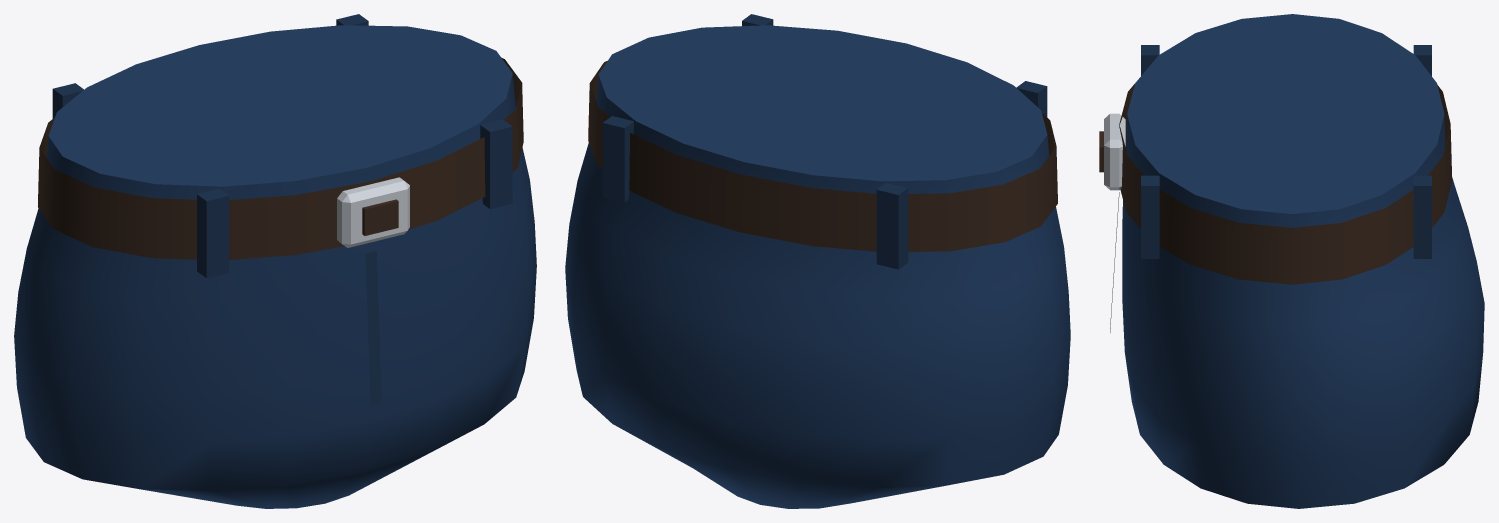
File: npc_hips_trousers.glb
3 views of the same model, side by side, from view 1: azimuth 30°, elevation 25°; view 2: azimuth 150°, elevation 25°; view 3: azimuth 270°, elevation 25° (orthographic). The views are drawn at different scales.
Visible parts, largest first — view 1: npc_hips_trousers; view 2: npc_hips_trousers; view 3: npc_hips_trousers.
Boxes of the visible parts, box(x1,y1,x2,y2) form: npc_hips_trousers: box(14, 14, 536, 508); npc_hips_trousers: box(565, 14, 1070, 508); npc_hips_trousers: box(1099, 14, 1484, 508).
Size of the model in its own units: 0.344 by 0.247 by 0.249.
